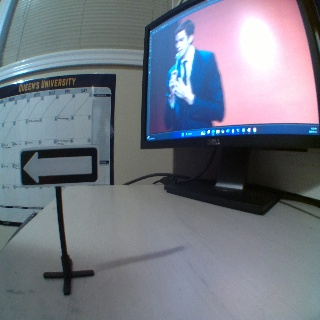sign_oneway_left: (20, 147, 97, 183)
